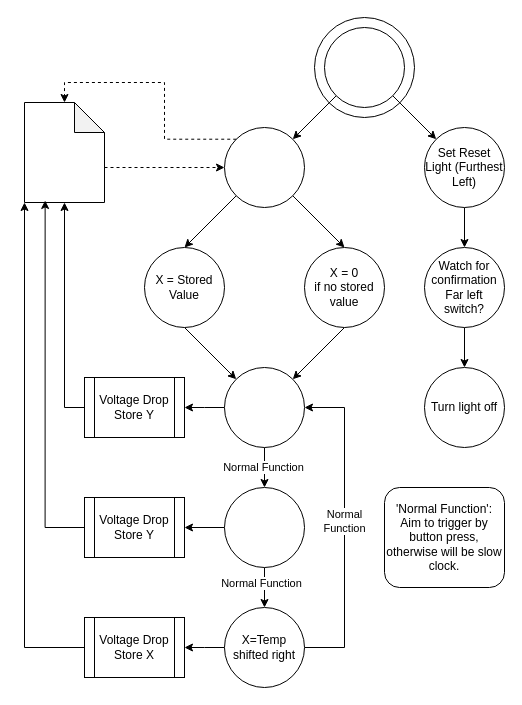
This 522x705 diagram has some shape labels left out. The shapes that lost their labels are listed below. From the top down, each one's box as (x1, y1, x2, y2) in pixels, then its label:
(324, 26, 404, 108): Reset X=Undefined Y=Undefined
(24, 102, 104, 202): FRAM STORAGE
(224, 126, 304, 208): Check for stored value
(224, 366, 304, 448): Y = Value from switches
(224, 486, 304, 568): Temp=X+Y
